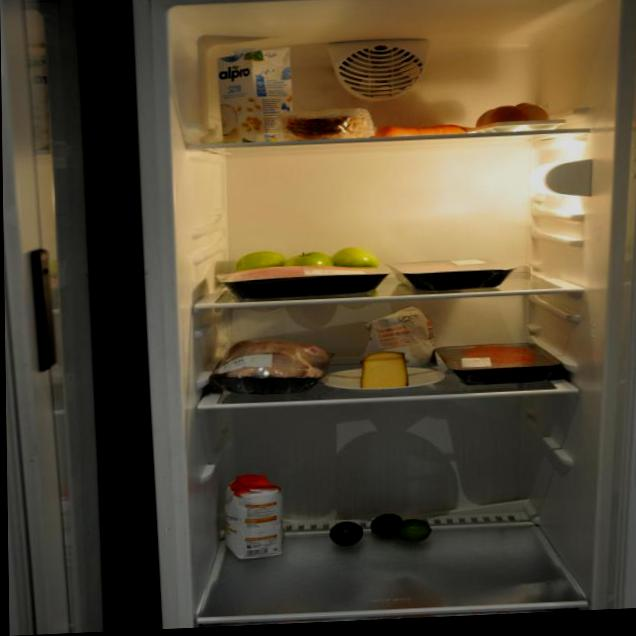apple: (236, 233, 387, 276)
bread: (304, 99, 380, 153)
carrots: (384, 113, 472, 146)
cheese: (356, 345, 424, 398)
chicken: (219, 329, 337, 403)
eggs: (474, 92, 558, 152)
lime: (317, 510, 434, 557)
meat: (424, 336, 571, 396), (221, 262, 378, 309), (391, 261, 511, 298)
milk: (207, 37, 296, 153)
